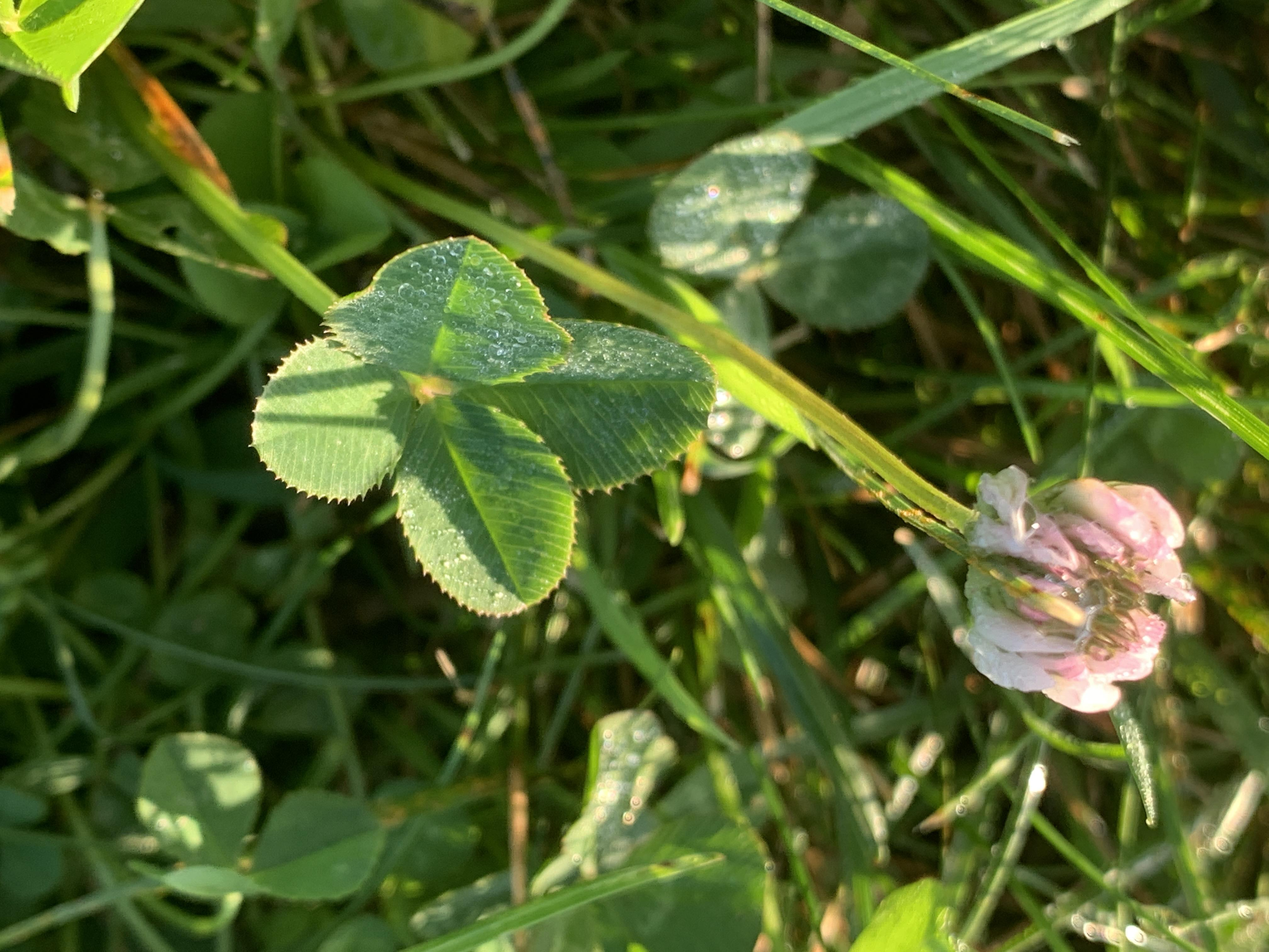4-Leaf-Clovers: (563, 334, 1017, 718)
